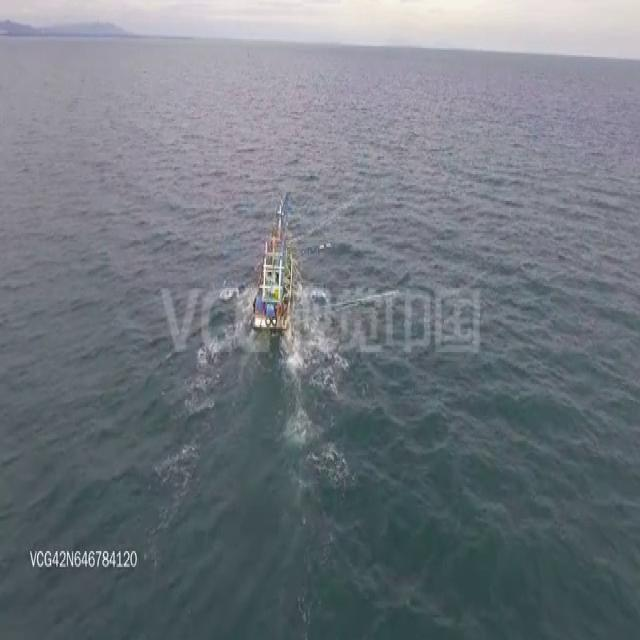fishing boat: (253, 185, 292, 336)
